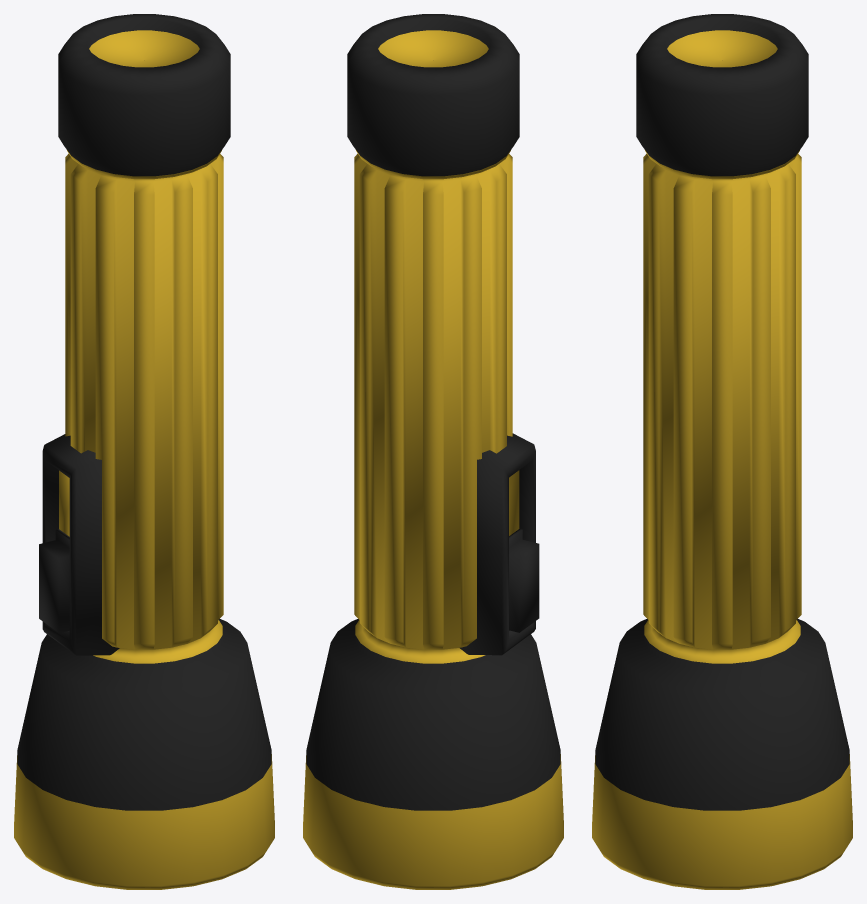
The model's file is flashlight2.fbx.
The picture shows the model from 3 angles, left to right: view 1: azimuth 30°, elevation 25°; view 2: azimuth 150°, elevation 25°; view 3: azimuth 270°, elevation 25°; orthographic projection.
Parts seen in each view (by area): view 1: Cylinder.001; view 2: Cylinder.001; view 3: Cylinder.001.
Part boxes in pixels (x1,y1,x2,y2): Cylinder.001: [14, 14, 274, 889]; Cylinder.001: [303, 14, 563, 889]; Cylinder.001: [592, 14, 852, 889].
Bounding box in the file's own units: 4.35 × 14.64 × 4.35.
